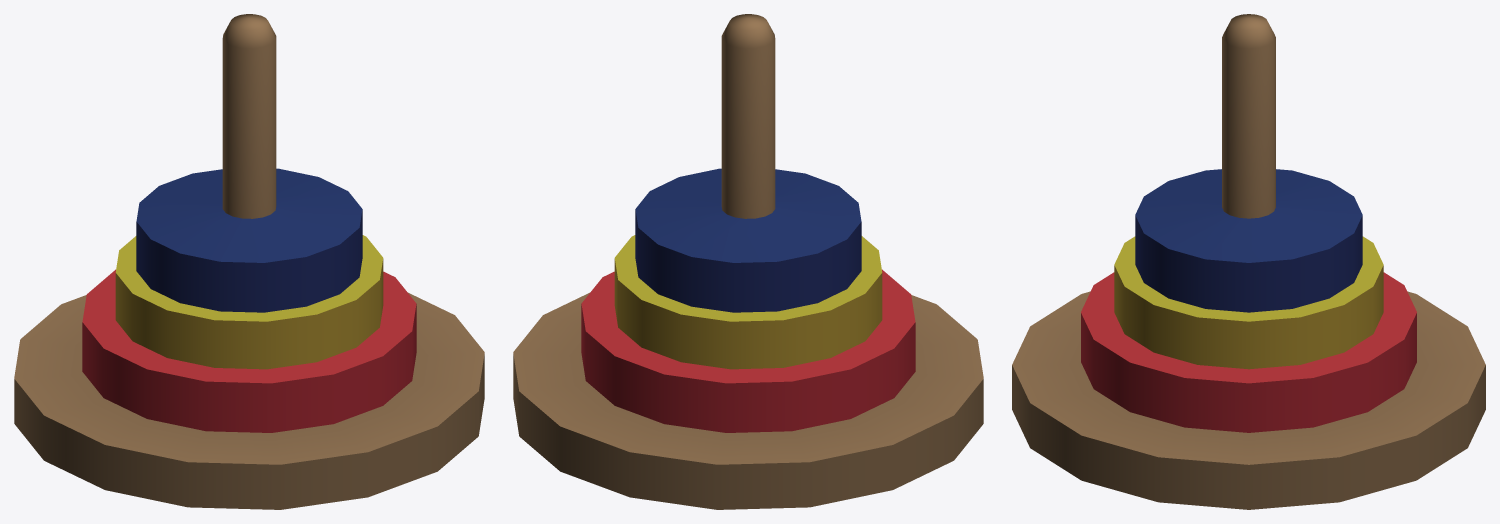
Rendered from human-toys-stacking-toy_v4.fbx.
The picture shows the model from 3 angles, left to right: view 1: azimuth 30°, elevation 25°; view 2: azimuth 150°, elevation 25°; view 3: azimuth 270°, elevation 25°; orthographic projection.
Parts seen in each view (by area): view 1: Stacking Toy_v4; view 2: Stacking Toy_v4; view 3: Stacking Toy_v4.
Part boxes in pixels (box(x1,y1,x2,y2)): Stacking Toy_v4: box(14, 14, 484, 509); Stacking Toy_v4: box(513, 14, 983, 509); Stacking Toy_v4: box(1012, 14, 1485, 509).
Size of the model in its own units: 0.2 by 0.1821 by 0.2.
